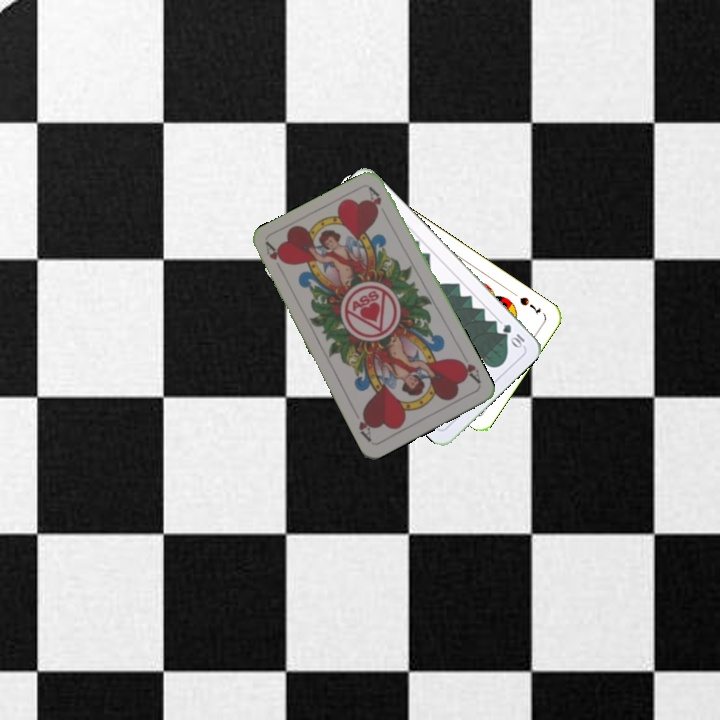G10: (498, 320, 527, 350)
HA: (261, 239, 288, 277), (453, 355, 484, 386)
S7: (516, 293, 544, 316)
